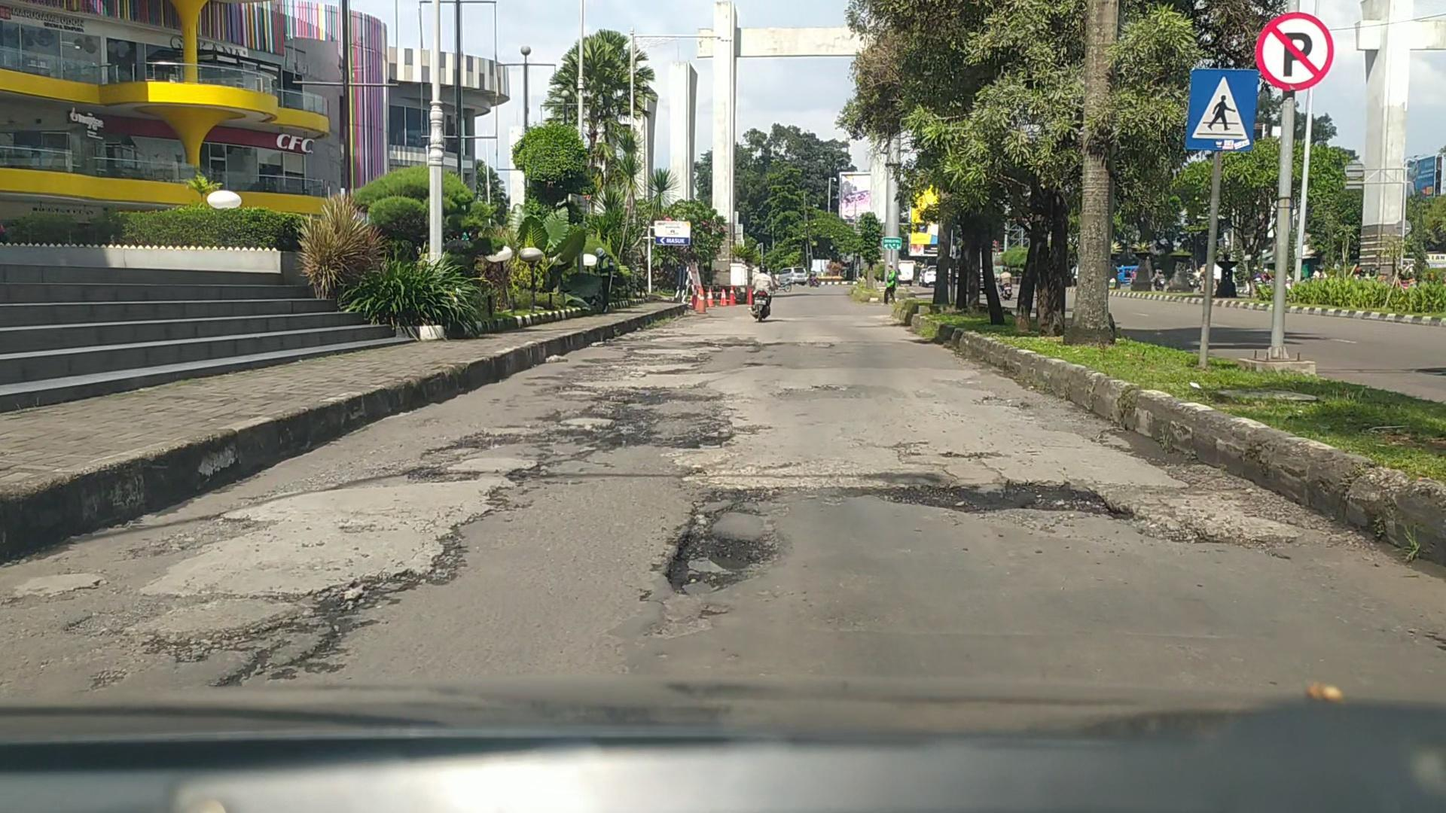pothole: (142, 523, 466, 663), (535, 384, 769, 460), (659, 484, 792, 603), (851, 478, 1135, 529), (330, 431, 554, 493), (1144, 525, 1300, 561), (583, 347, 711, 367), (679, 339, 788, 354), (503, 462, 541, 484), (978, 397, 1029, 410), (488, 486, 513, 511), (809, 385, 848, 391), (743, 362, 764, 368)
